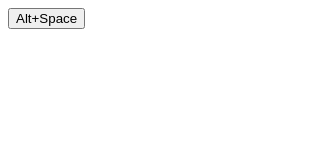
Test: saves once, only when the combination is complete, and Esc cancels
The width and height of the screenshot is (320, 160).
Later steps or results of the test are not shown.
Click the button "Alt+Space": (47, 18) 8,8 -> 85,29
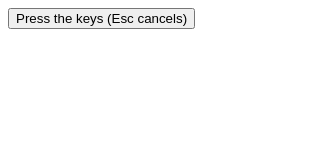
Press Escape in the button named "Alt+Space", box 8,8 -> 195,29
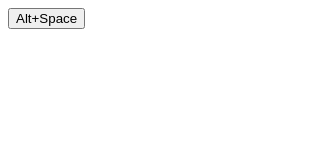
Now the button "Alt+Space" is shown, box 8,8 -> 85,29
